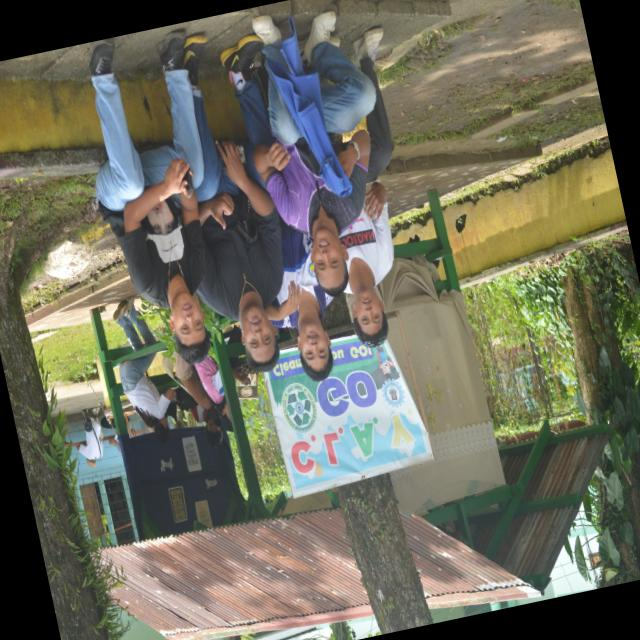person: (86, 31, 210, 362), (253, 11, 375, 295), (184, 34, 283, 371), (341, 27, 394, 346), (267, 219, 333, 380), (120, 351, 175, 440), (72, 408, 103, 466), (190, 404, 223, 447)
